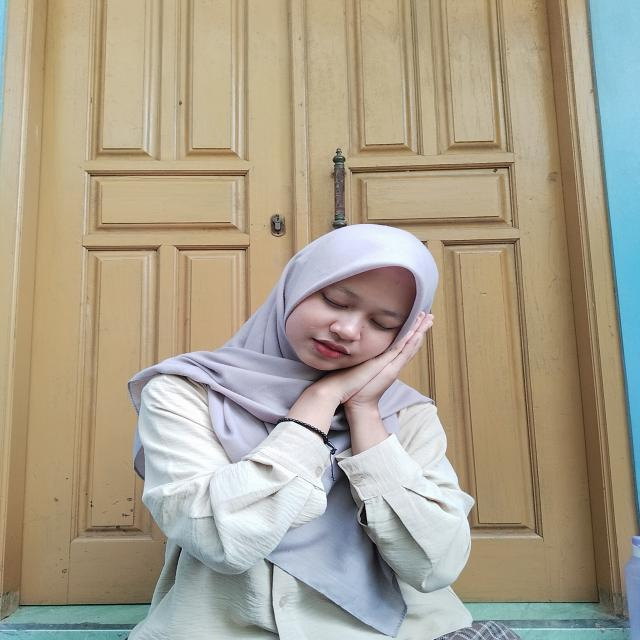tidur: (231, 306, 450, 472)
